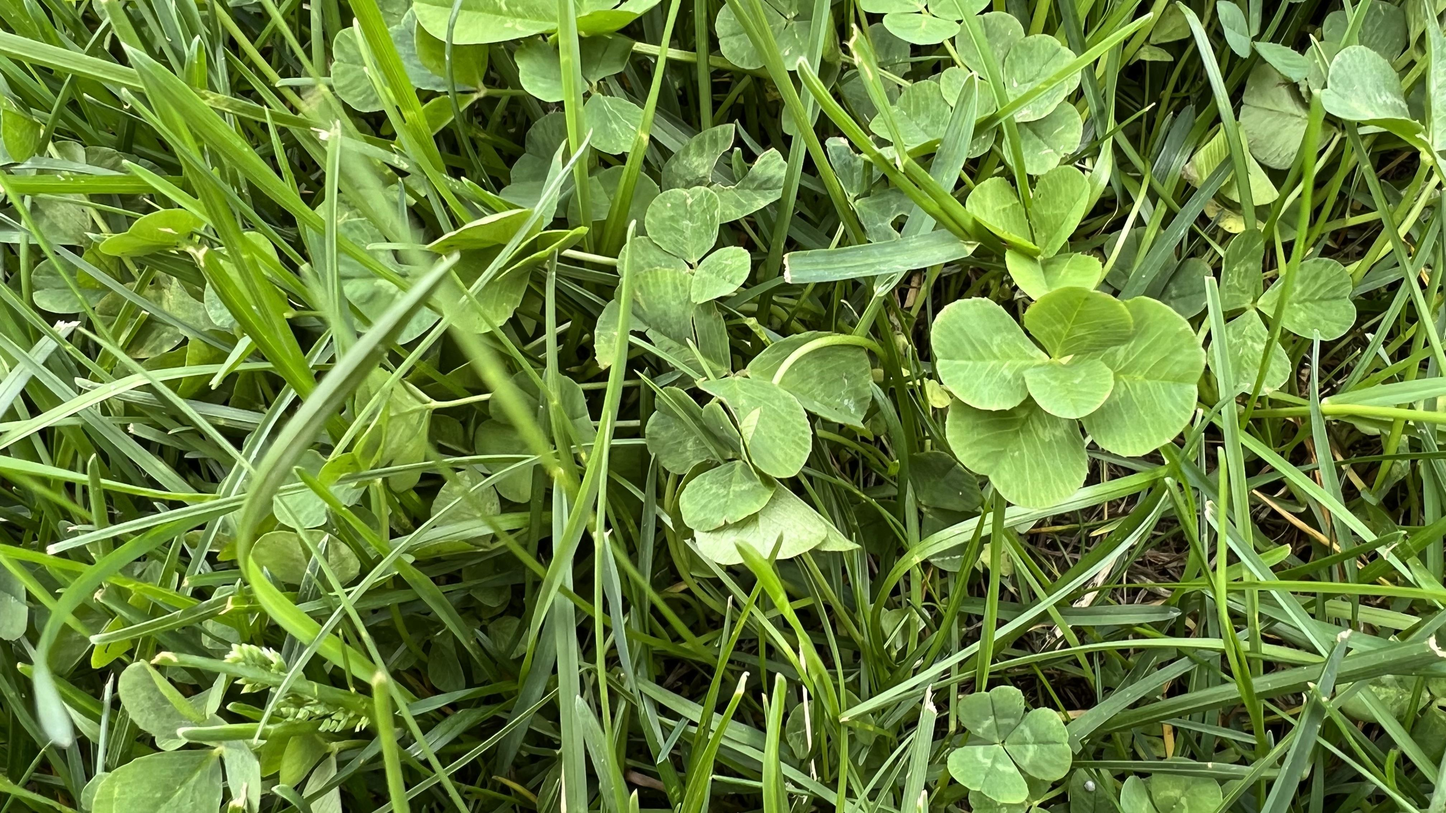5-Leaf-Clovers: (511, 135, 904, 293)
